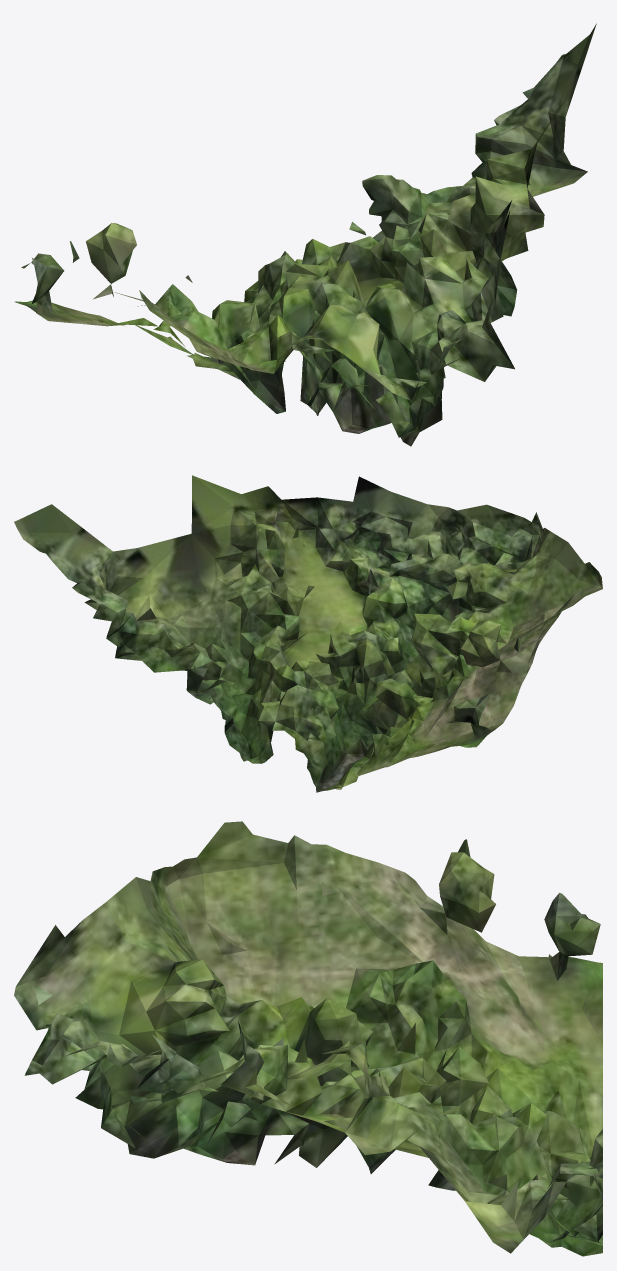
3 renders of one model, top to bottom at view 1: azimuth 30°, elevation 25°; view 2: azimuth 150°, elevation 25°; view 3: azimuth 270°, elevation 25°, orthographic. The views are drawn at different scales.
Size of the model in its own units: 200 by 88.54 by 140.
3 materials, 3 textured.
